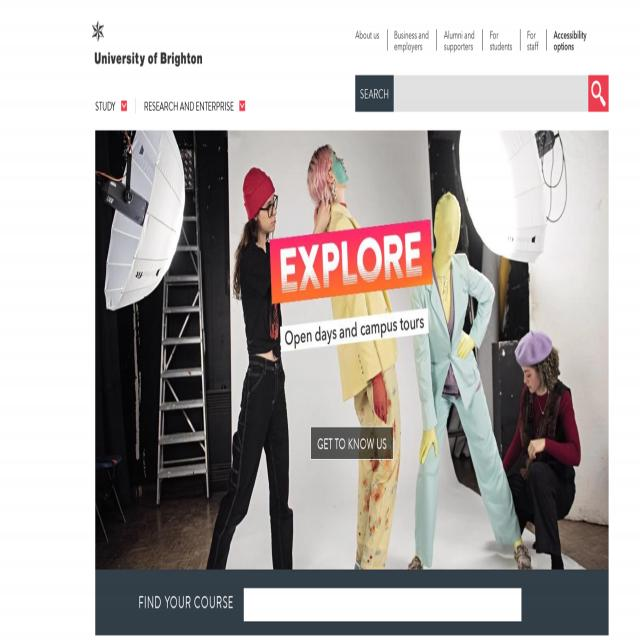button: (92, 20, 202, 66), (136, 92, 254, 120), (310, 427, 393, 460), (355, 76, 393, 111), (95, 92, 136, 120), (387, 29, 437, 51), (437, 29, 483, 51), (547, 29, 587, 51), (483, 29, 520, 51), (350, 29, 386, 51), (588, 75, 609, 112), (520, 29, 547, 51)
field: (244, 588, 521, 622), (394, 76, 588, 112)
